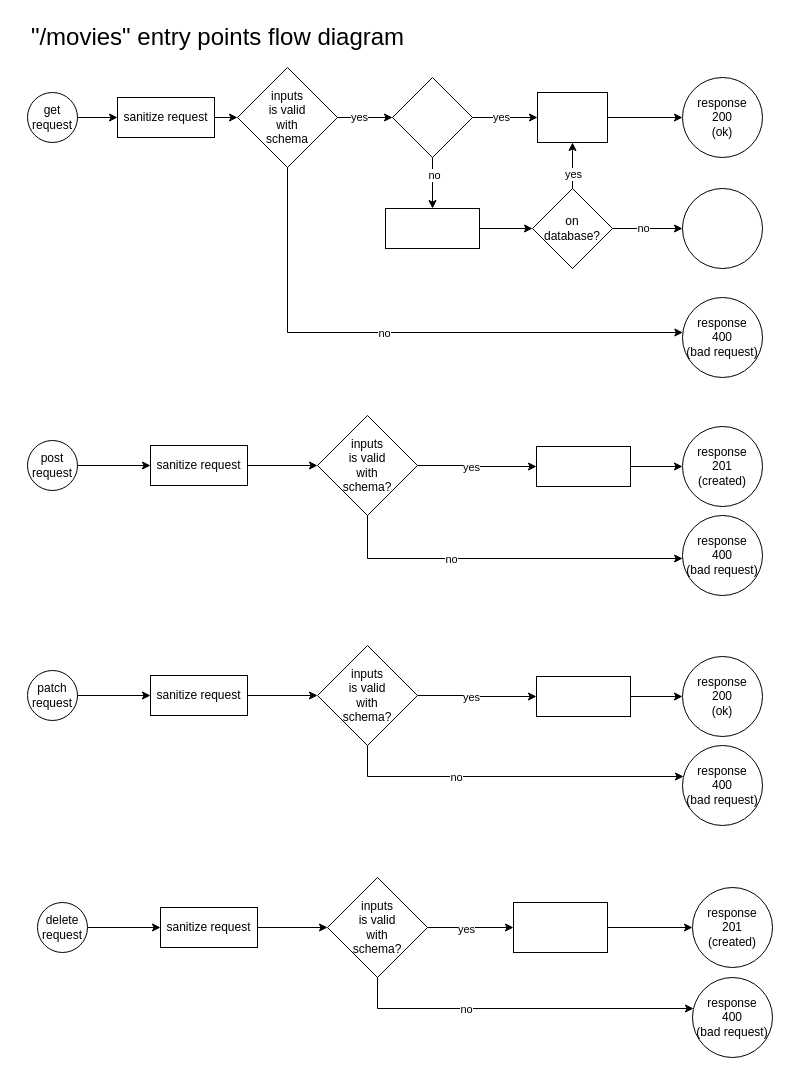
Image size: 790x1075. Some labels were removed from this diagram. Each missing label, with the centre of its shape:
"cache" goes at (x=572, y=117).
"Cached?" goes at (x=432, y=117).
"delete movie id on movie_list table" goes at (x=560, y=927).
"fetch database" goes at (x=432, y=228).
"insert into database" goes at (x=583, y=466).
"response 204 (no content)" goes at (x=722, y=228).
"update database" goes at (x=583, y=696).
